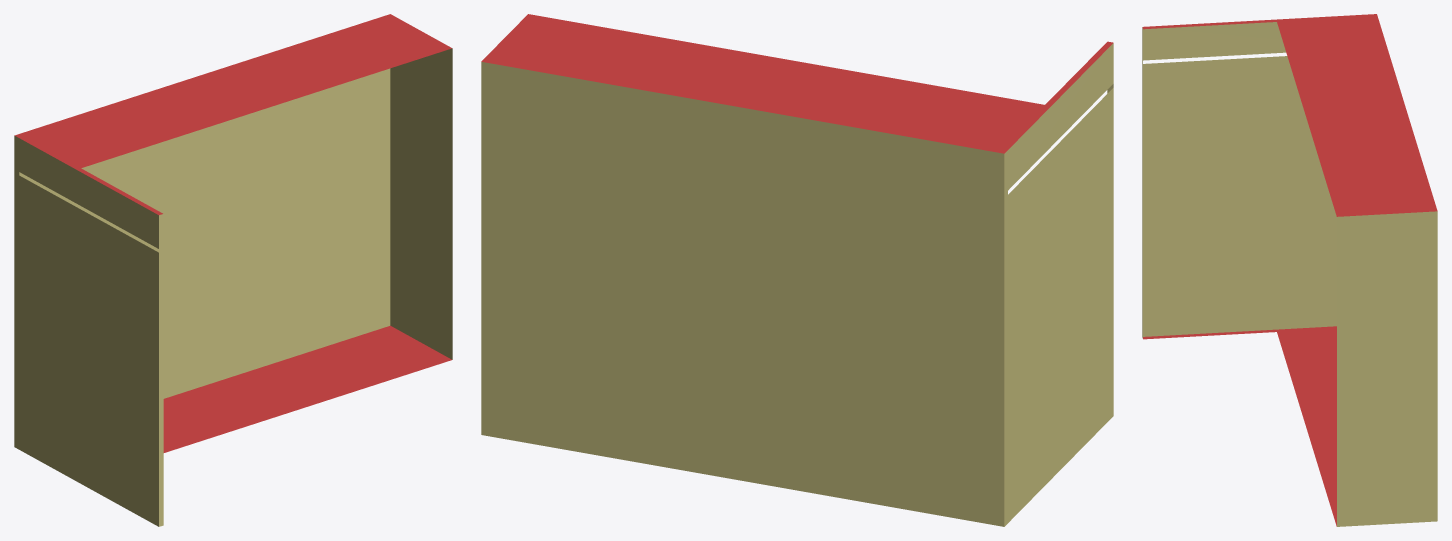
3 renders of one model, left to right at view 1: azimuth 30°, elevation 25°; view 2: azimuth 150°, elevation 25°; view 3: azimuth 270°, elevation 25°, orthographic. The views are drawn at different scales.
Bounding box in the file's own units: 12.61 × 7.76 × 8.99.
